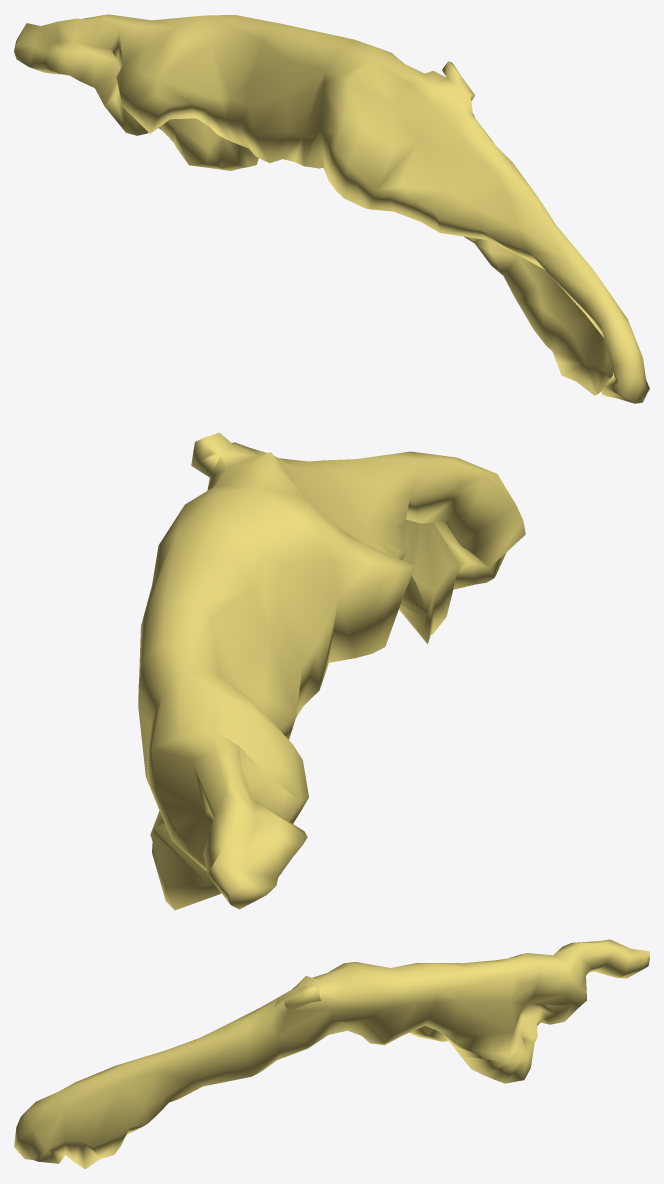
The model's file is collateral-sulcus-l.glb.
3 views of the same model, one above another, from view 1: azimuth 30°, elevation 25°; view 2: azimuth 150°, elevation 25°; view 3: azimuth 270°, elevation 25° (orthographic). The views are drawn at different scales.
Visible parts, largest first — view 1: Collateral sulcus.l; view 2: Collateral sulcus.l; view 3: Collateral sulcus.l.
Part boxes in pixels (box(x1,y1,x2,y2)): Collateral sulcus.l: box(14, 14, 649, 403); Collateral sulcus.l: box(138, 432, 525, 910); Collateral sulcus.l: box(14, 939, 649, 1169).
Bounding box in the file's own units: 0.0318 × 0.0264 × 0.083.
